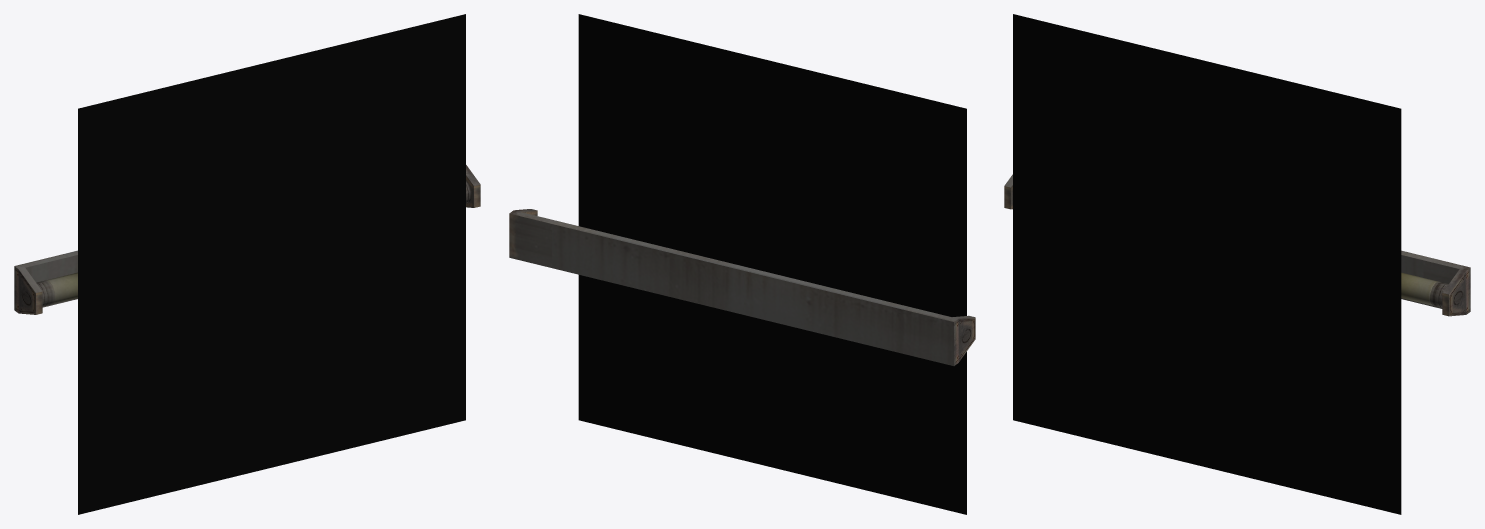
File: lamp_wall_flour.dae
3 renders of one model, left to right at view 1: azimuth 30°, elevation 25°; view 2: azimuth 150°, elevation 25°; view 3: azimuth 330°, elevation 25°, orthographic.
Visible parts, largest first — view 1: _bb_halo_flourescent02_halo01, frame, lamp; view 2: _bb_halo_flourescent02_halo01, frame; view 3: _bb_halo_flourescent02_halo01, frame, lamp.
Part boxes in pixels (x1,y1,x2,y2): _bb_halo_flourescent02_halo01: (78, 14, 465, 514); frame: (14, 165, 480, 314); lamp: (36, 180, 471, 306); _bb_halo_flourescent02_halo01: (578, 14, 966, 514); frame: (509, 209, 975, 365); _bb_halo_flourescent02_halo01: (1013, 14, 1401, 514); frame: (1004, 174, 1470, 316); lamp: (1401, 272, 1448, 307).
Size of what is drawn, in the model's own units: 1.85 by 1.62 by 0.2757.
